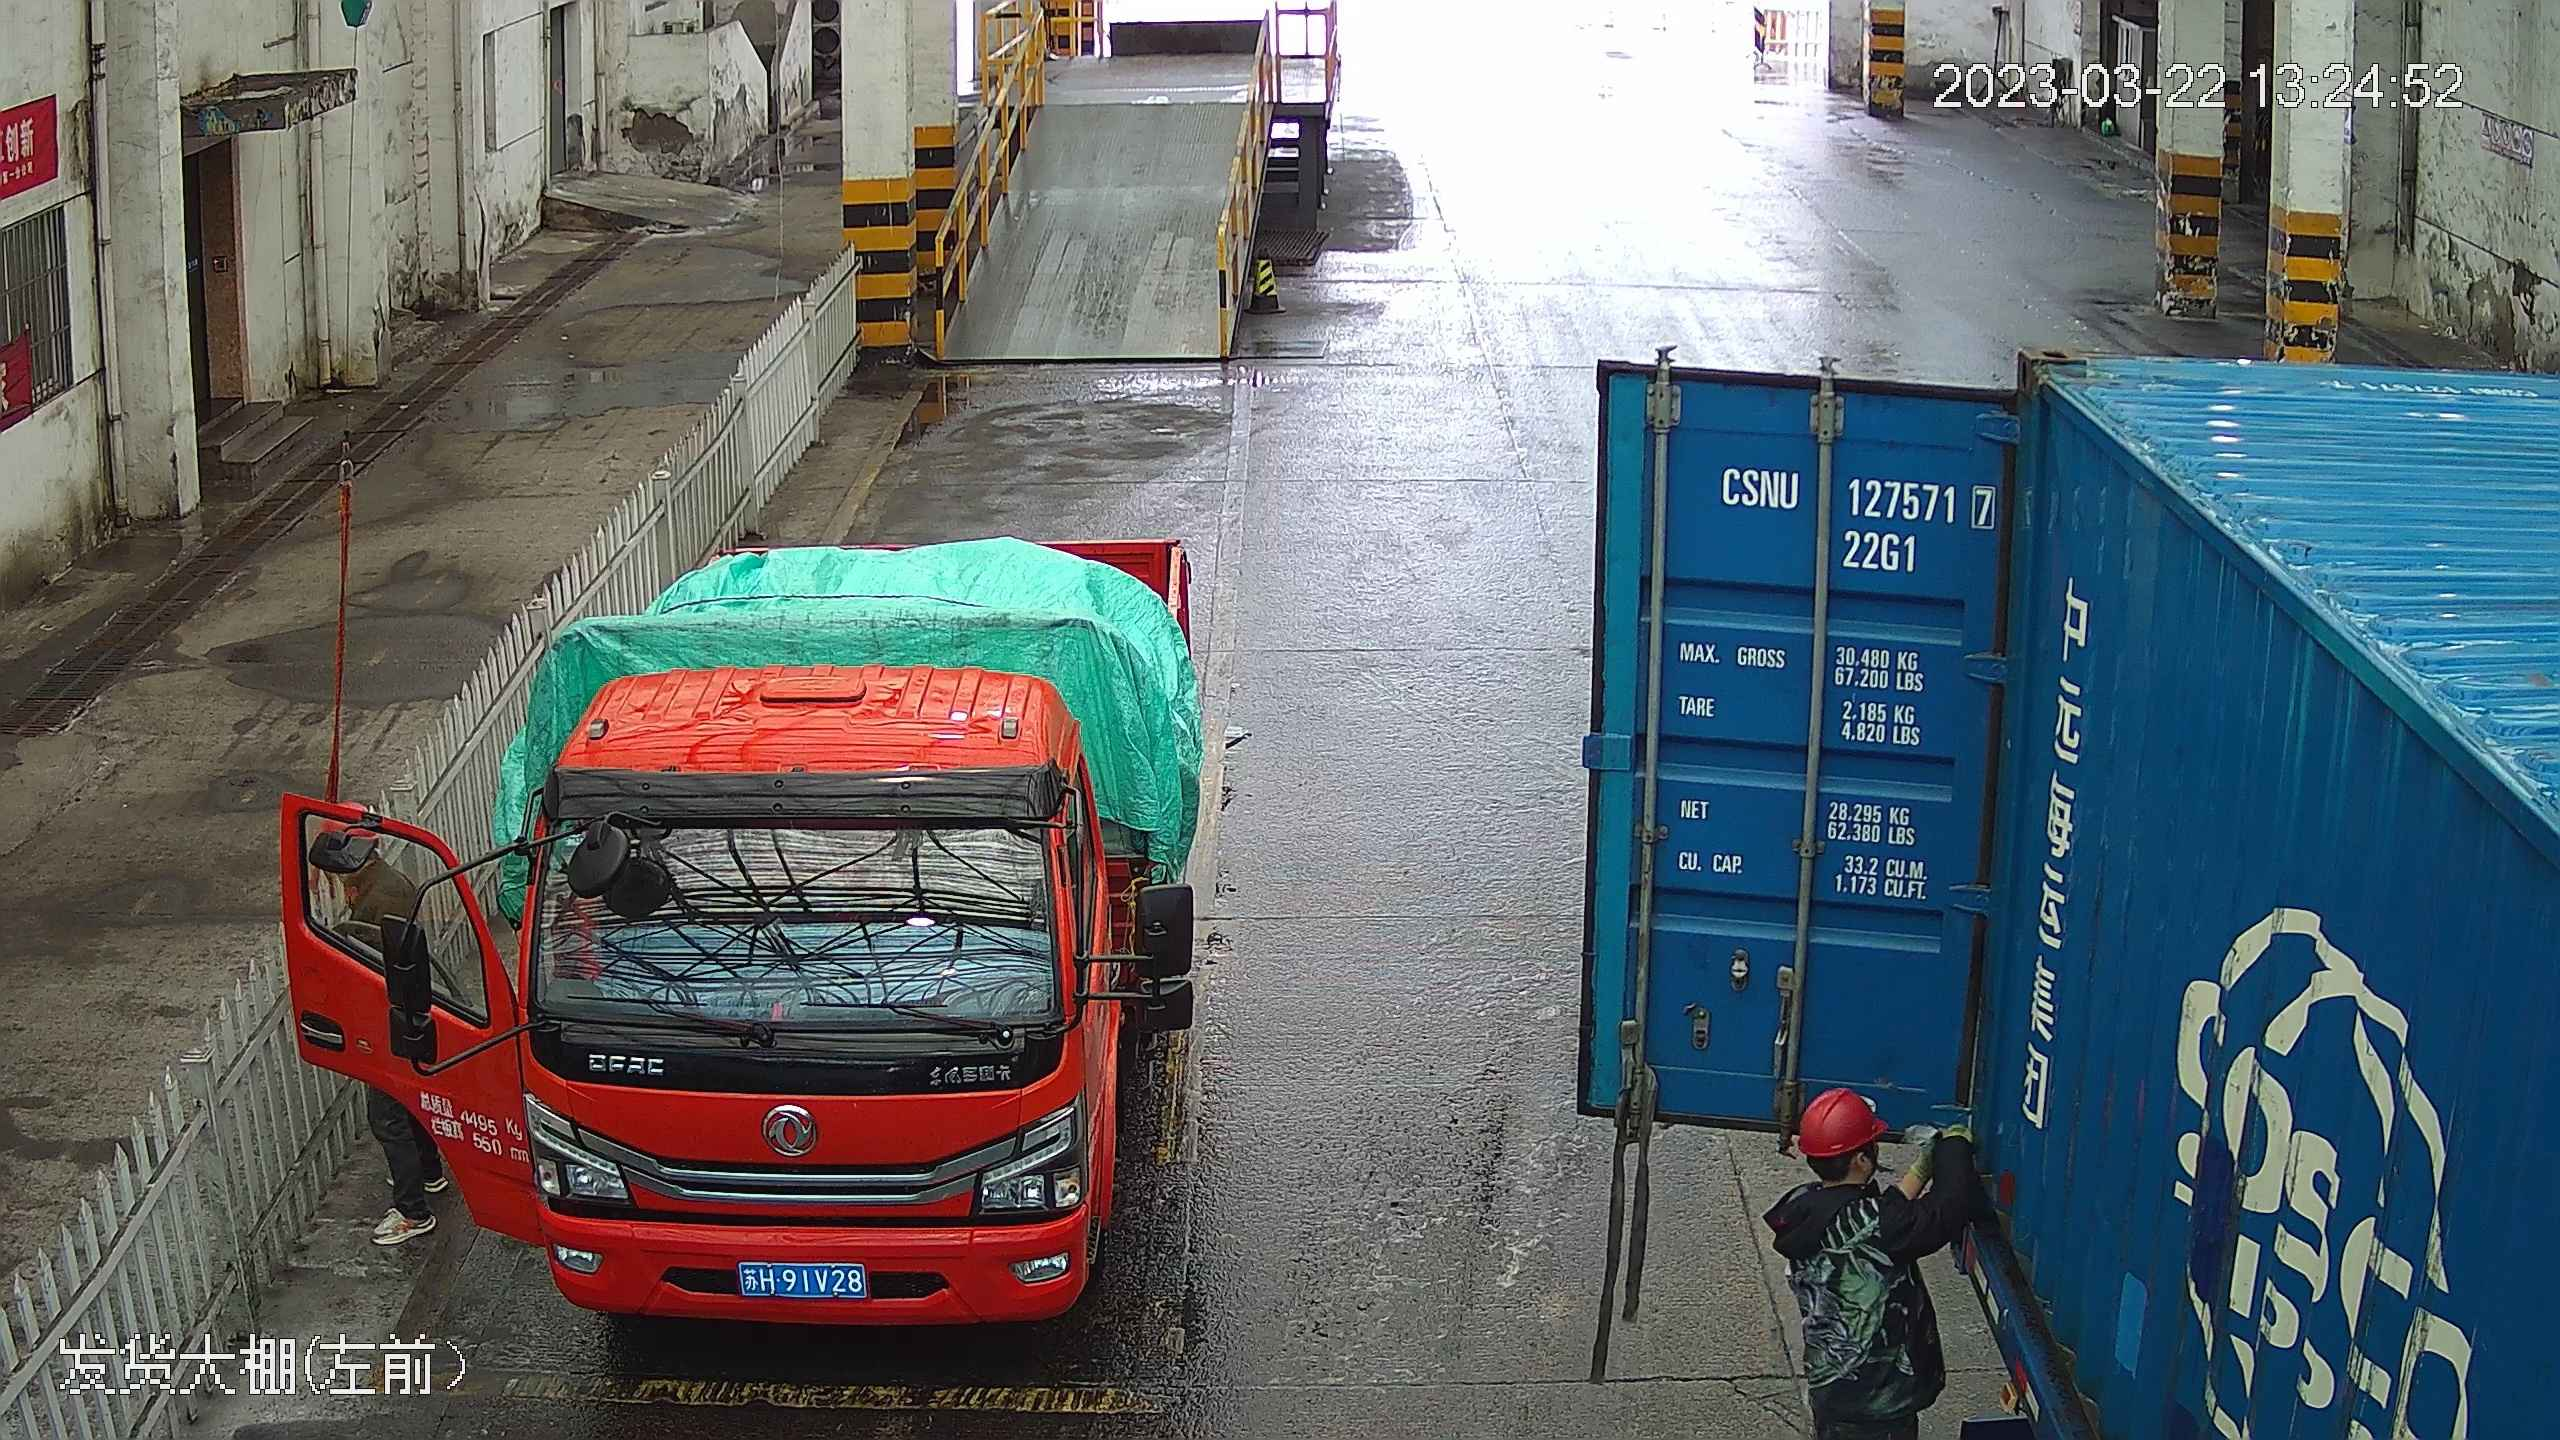head: (1768, 1086, 1899, 1253)
helmet: (1797, 1087, 1885, 1159)
people: (1762, 1097, 1935, 1440)
truck: (300, 2, 1242, 1363), (1611, 238, 2560, 1440)
